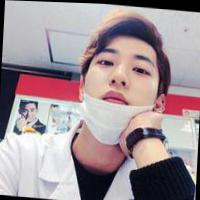NONE: (21, 105, 37, 123)
WRONG: (79, 43, 166, 134)
